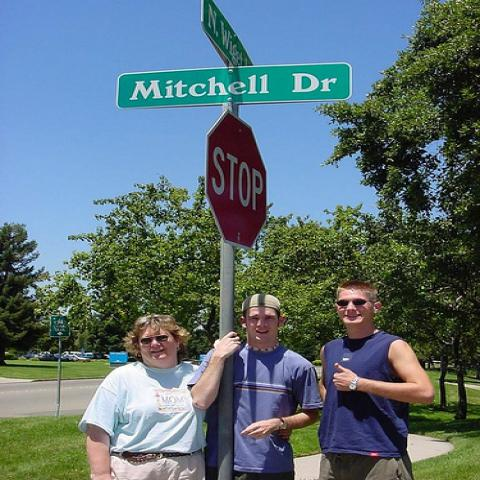car: (61, 351, 82, 360), (37, 354, 57, 361), (84, 351, 96, 358), (95, 353, 109, 359), (24, 354, 36, 359)
